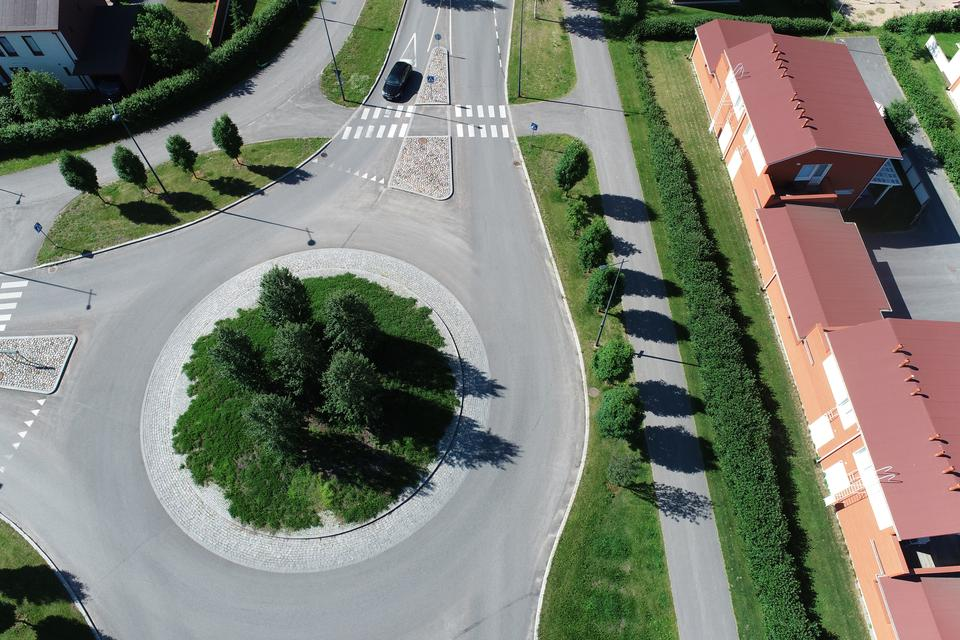intersection: (294, 74, 640, 174), (0, 139, 60, 440)
roundabout: (78, 222, 602, 640)
